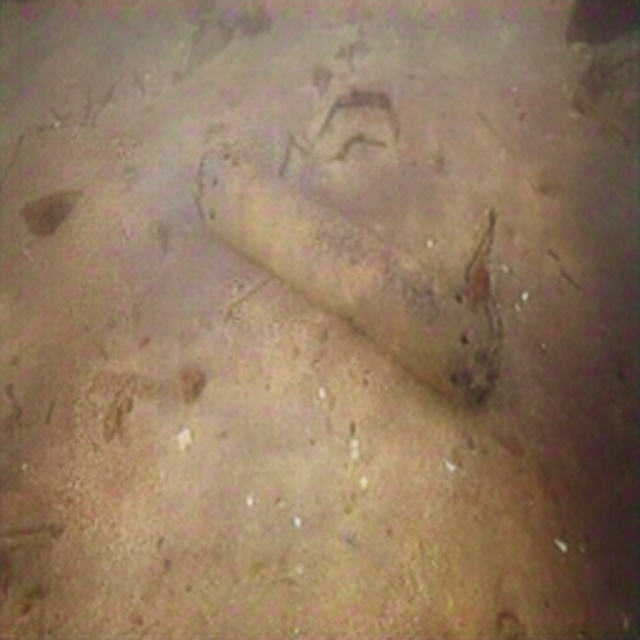mine: (193, 143, 502, 406)
